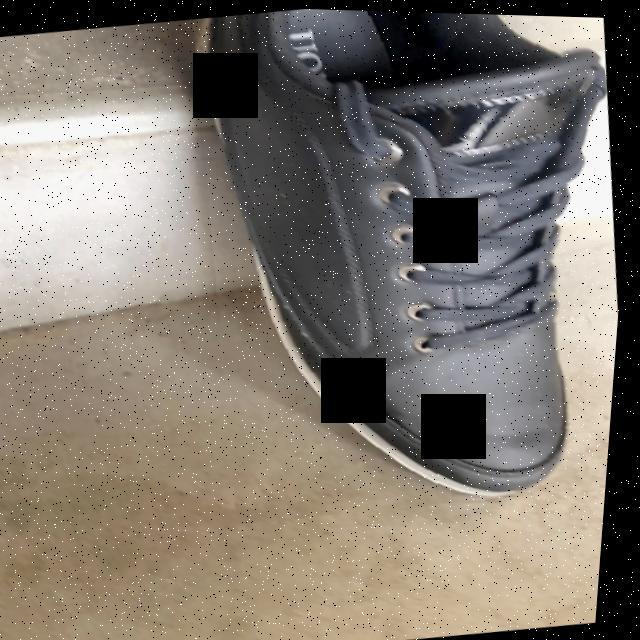shoe: (196, 7, 607, 496)
